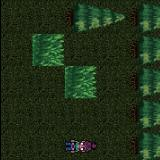Obstacle: (128, 34, 160, 67), (128, 66, 160, 99), (128, 2, 160, 34), (128, 98, 160, 130), (64, 2, 96, 34), (128, 129, 160, 160)
Slow: (31, 34, 65, 66), (64, 66, 95, 98)
Victim: (64, 132, 96, 160)
